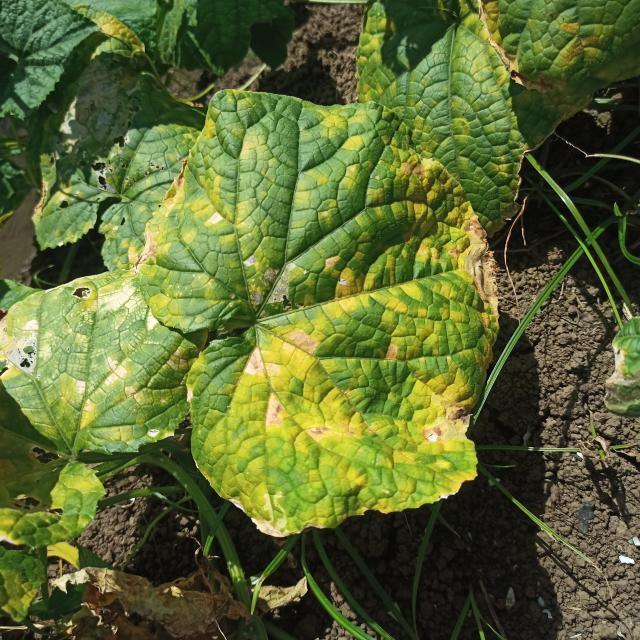disease_cucumber: (136, 86, 499, 534), (5, 265, 192, 454)
